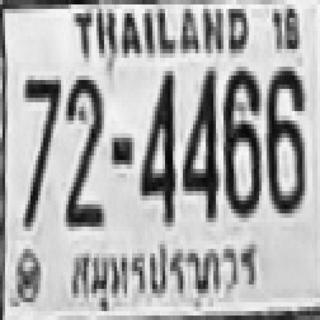N02: (64, 74, 102, 224)
N04: (180, 67, 216, 218), (138, 69, 174, 220)
N06: (264, 62, 302, 209), (221, 67, 259, 213)
N07: (23, 76, 58, 226)
P57: (67, 237, 265, 306)
